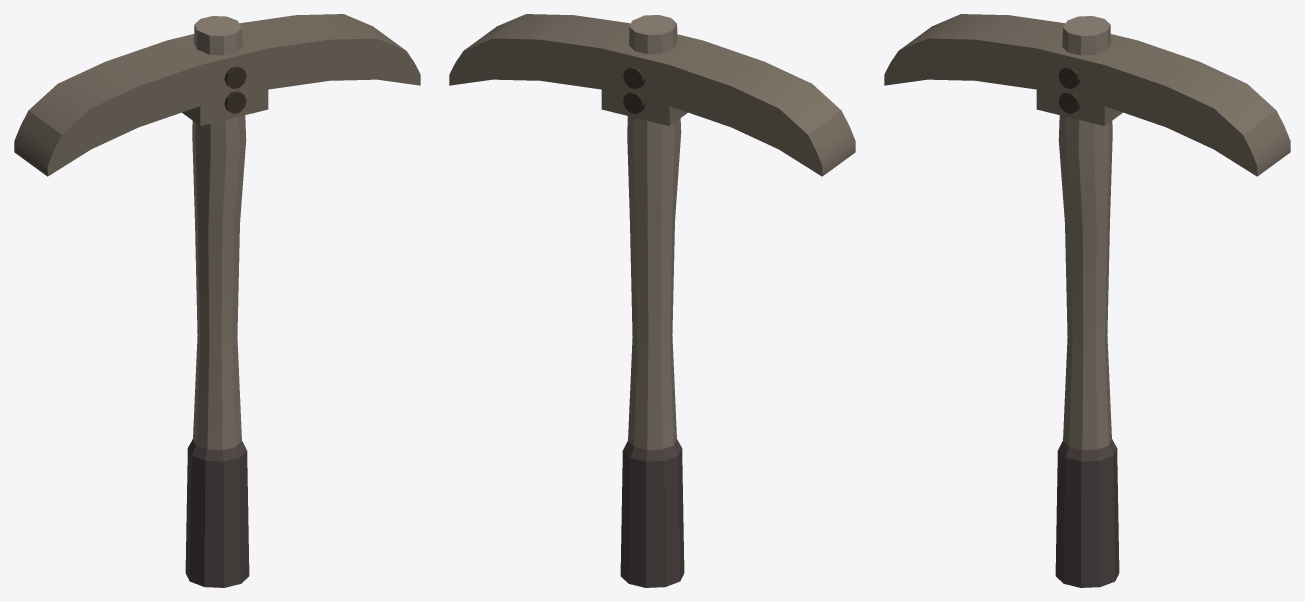
Rendered from wood_pickax.fbx.
3 views of the same model, side by side, from view 1: azimuth 30°, elevation 25°; view 2: azimuth 150°, elevation 25°; view 3: azimuth 330°, elevation 25° (orthographic).
Visible parts, largest first — view 1: pCube1, pCylinder1; view 2: pCube1, pCylinder1; view 3: pCube1, pCylinder1.
Boxes of the visible parts, <box> form: pCube1: <box>14,14,420,176</box>; pCylinder1: <box>185,16,249,587</box>; pCube1: <box>449,14,855,176</box>; pCylinder1: <box>620,15,684,587</box>; pCube1: <box>884,14,1290,176</box>; pCylinder1: <box>1055,16,1119,587</box>.
Size of the model in its own units: 6.43 by 9.05 by 1.15.
